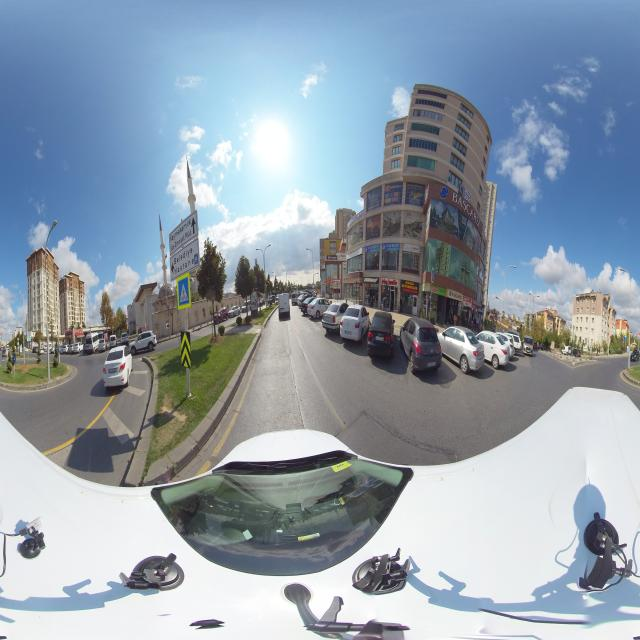SignStore: (402, 243, 421, 254), (401, 280, 418, 291), (432, 284, 446, 296), (449, 289, 462, 301), (381, 278, 398, 286), (365, 244, 379, 253), (382, 243, 399, 250), (365, 283, 379, 289), (463, 295, 472, 304), (338, 253, 346, 260), (327, 255, 337, 260)
